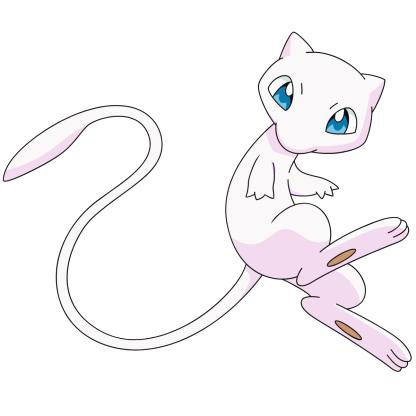Mew: (10, 0, 415, 415)
